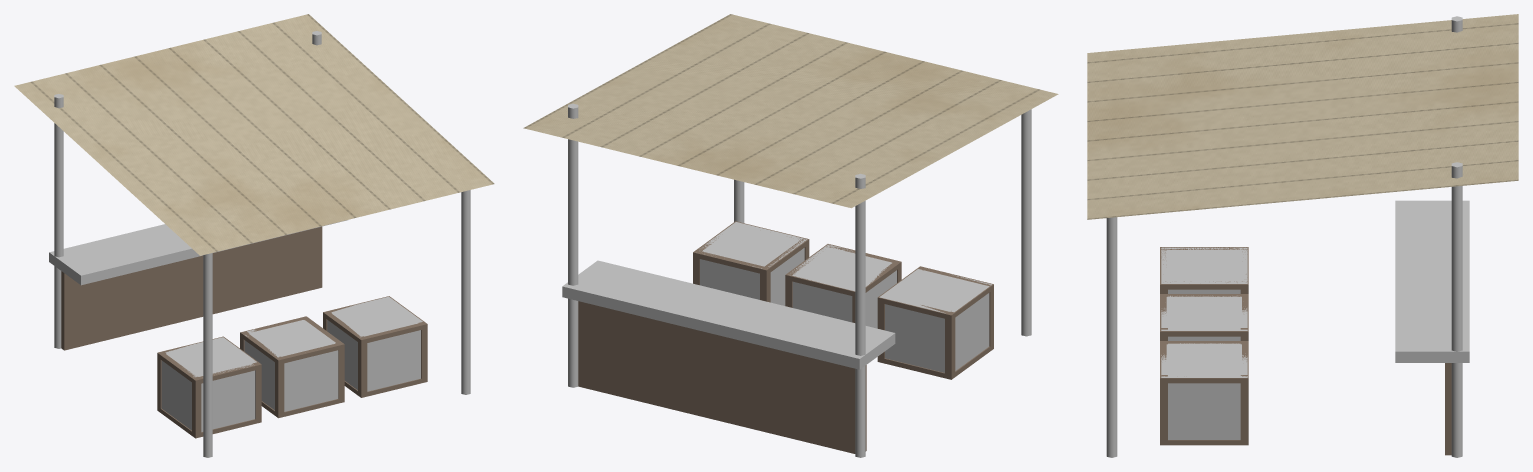
Rendered from SM_Art_Settlement_Street_1.gltf.
3 renders of one model, left to right at view 1: azimuth 30°, elevation 25°; view 2: azimuth 150°, elevation 25°; view 3: azimuth 270°, elevation 25°, orthographic. The views are drawn at different scales.
Visible parts, largest first — view 1: SM_Art_Settlement_Street_1; view 2: SM_Art_Settlement_Street_1; view 3: SM_Art_Settlement_Street_1.
Boxes of the visible parts, x1,y1,x2,y2 form: SM_Art_Settlement_Street_1: (14, 14, 494, 457); SM_Art_Settlement_Street_1: (523, 14, 1058, 457); SM_Art_Settlement_Street_1: (1087, 14, 1518, 457).
Size of the model in its own units: 3.2 by 2.6 by 3.5.
